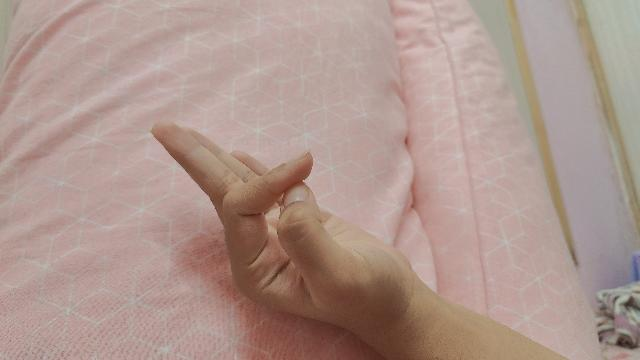aral: (149, 124, 568, 360)
